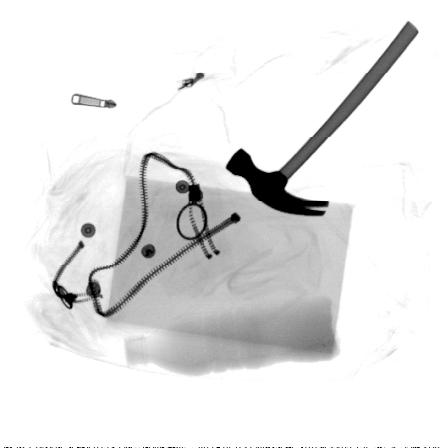Hammer: (224, 22, 420, 217)
